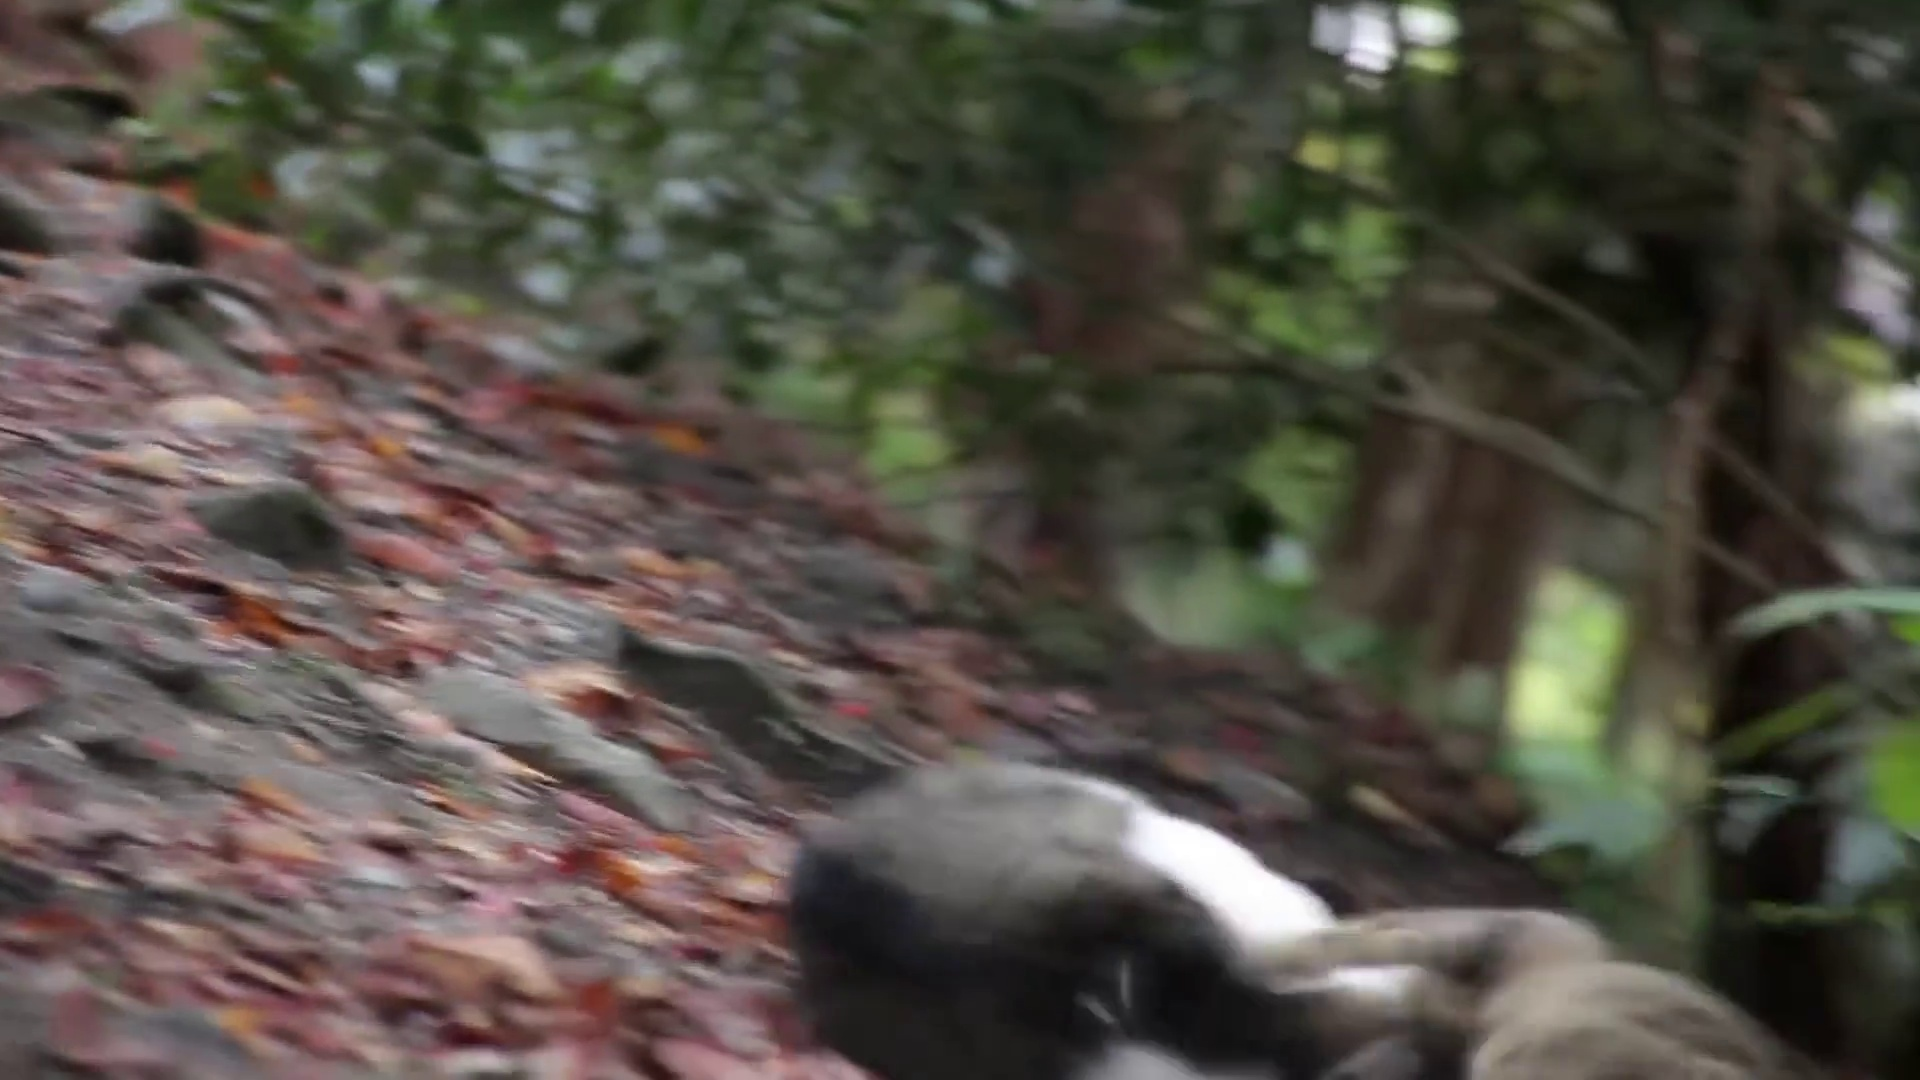black-white: (793, 752, 1412, 1080)
pure black: (1244, 905, 1783, 1080)
